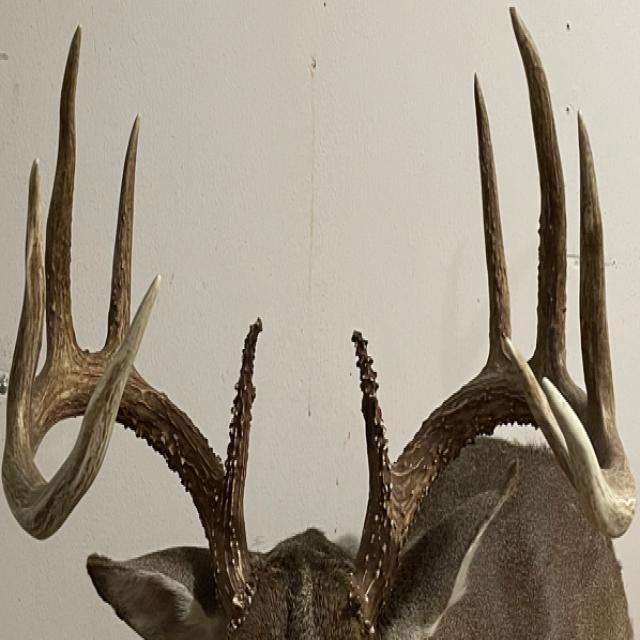L-G1: (350, 327, 393, 506)
L-G2: (474, 72, 512, 363)
L-G3: (509, 6, 570, 377)
L-G4: (577, 108, 616, 426)
R-G1: (224, 316, 263, 506)
R-G2: (100, 112, 142, 353)
R-G3: (44, 25, 84, 366)
R-G4: (4, 156, 44, 462)
